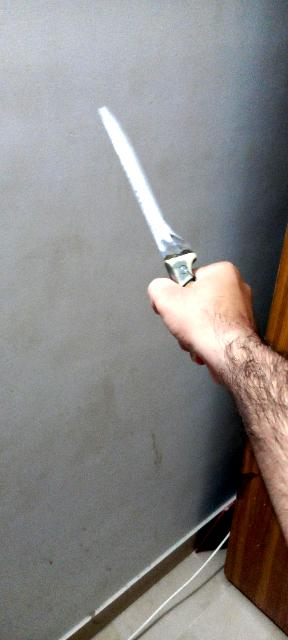long knife: (82, 93, 224, 313)
